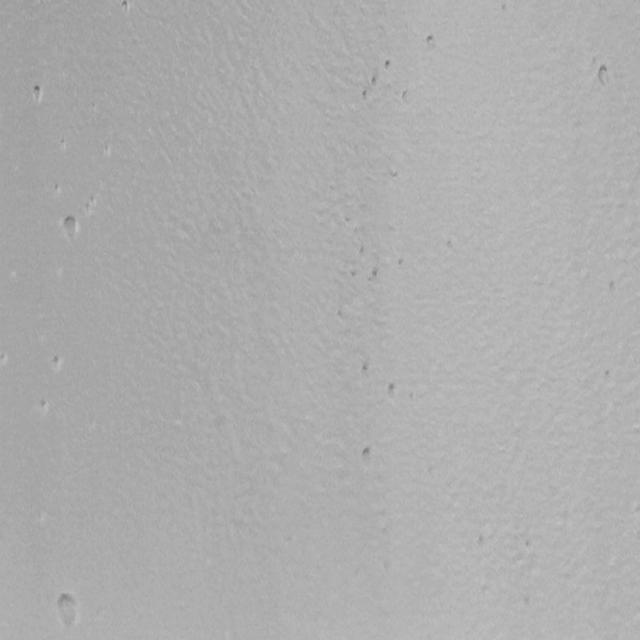pin holes: (53, 590, 84, 634), (58, 212, 82, 242), (594, 62, 616, 89), (334, 304, 356, 325), (384, 381, 403, 404), (30, 81, 48, 105), (358, 443, 376, 465), (50, 353, 65, 373), (423, 34, 439, 52), (360, 361, 375, 378), (85, 195, 99, 213), (400, 88, 411, 110), (389, 166, 405, 181), (369, 266, 383, 283), (39, 399, 53, 416), (499, 1, 513, 18), (58, 134, 68, 156), (360, 86, 372, 104), (120, 0, 133, 15), (396, 256, 409, 270), (347, 268, 361, 281), (369, 75, 381, 90), (382, 58, 394, 72), (52, 184, 64, 198), (0, 350, 8, 366)
